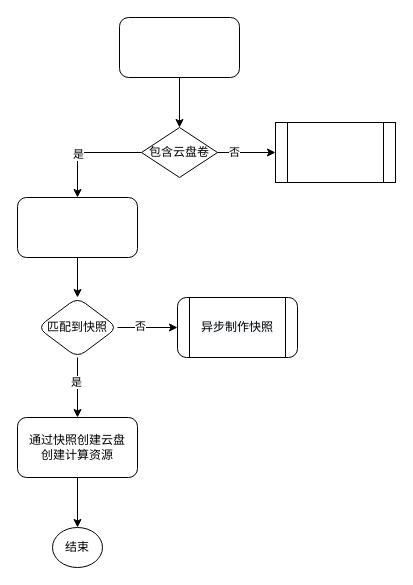
The diagram is 413 pixels wide and 585 high, and some of its shapes have lost their labels. The centre of each missing label's shape, as x and y in pixels:
ECI创建流程: point 335,152
创建ECI: point 179,47
根据地域、云盘容量、文件系统类型等信息自动匹配快照: point 77,227
